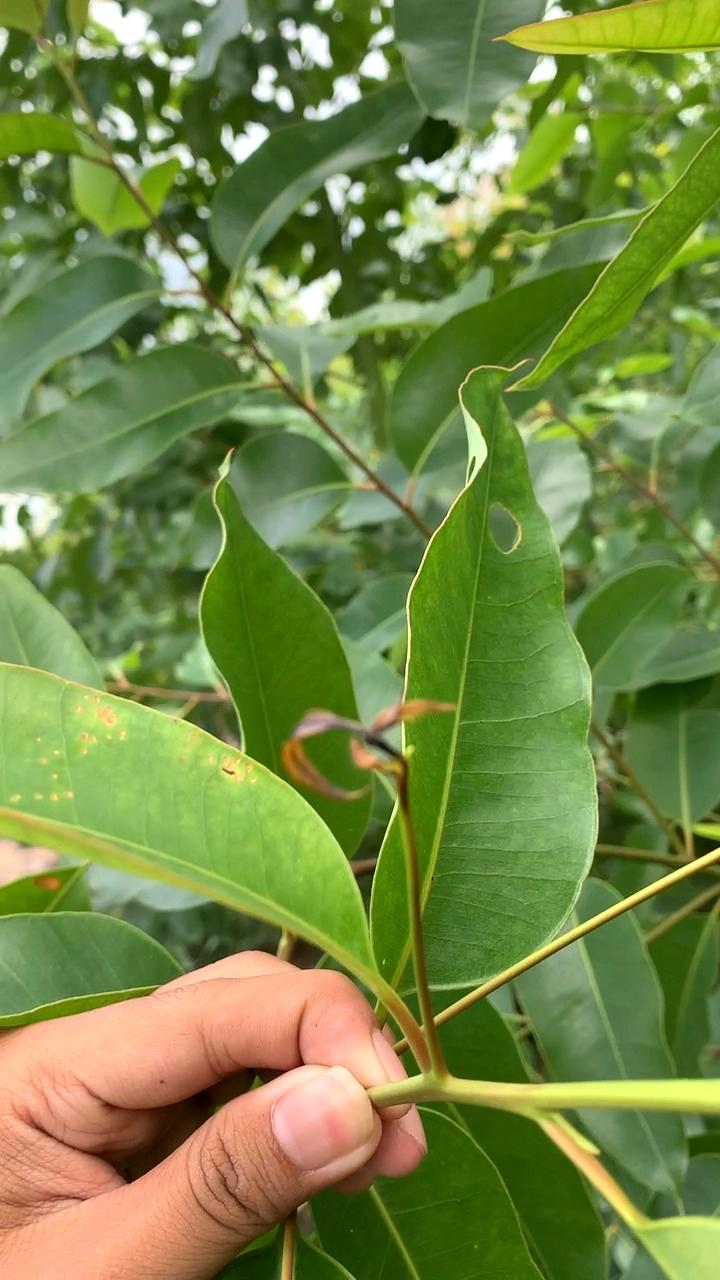Helopeltis-Withered Sprout: (273, 685, 463, 811)
